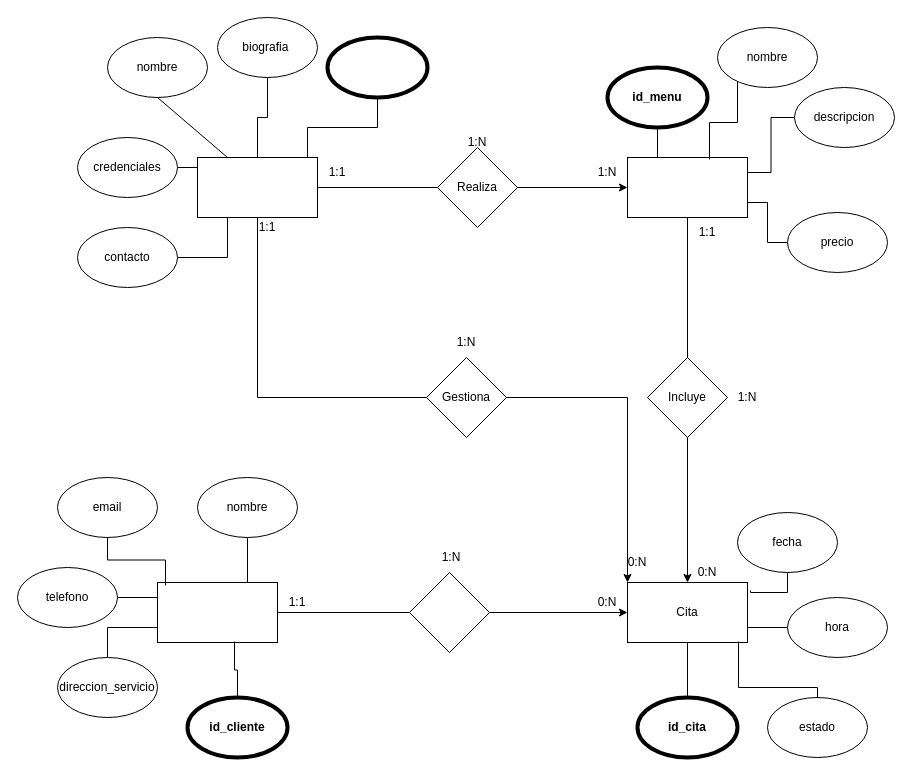
Some shapes in this 912 by 777 pixel diagram are drawn without their labels. Here are the shapes that lost their labels. From the top down, the centre of each, then its label:
the point at 377,67: id_chef
the point at 257,187: Chef
the point at 687,187: Menú
the point at 217,612: Cliente
the point at 449,612: Reserva
